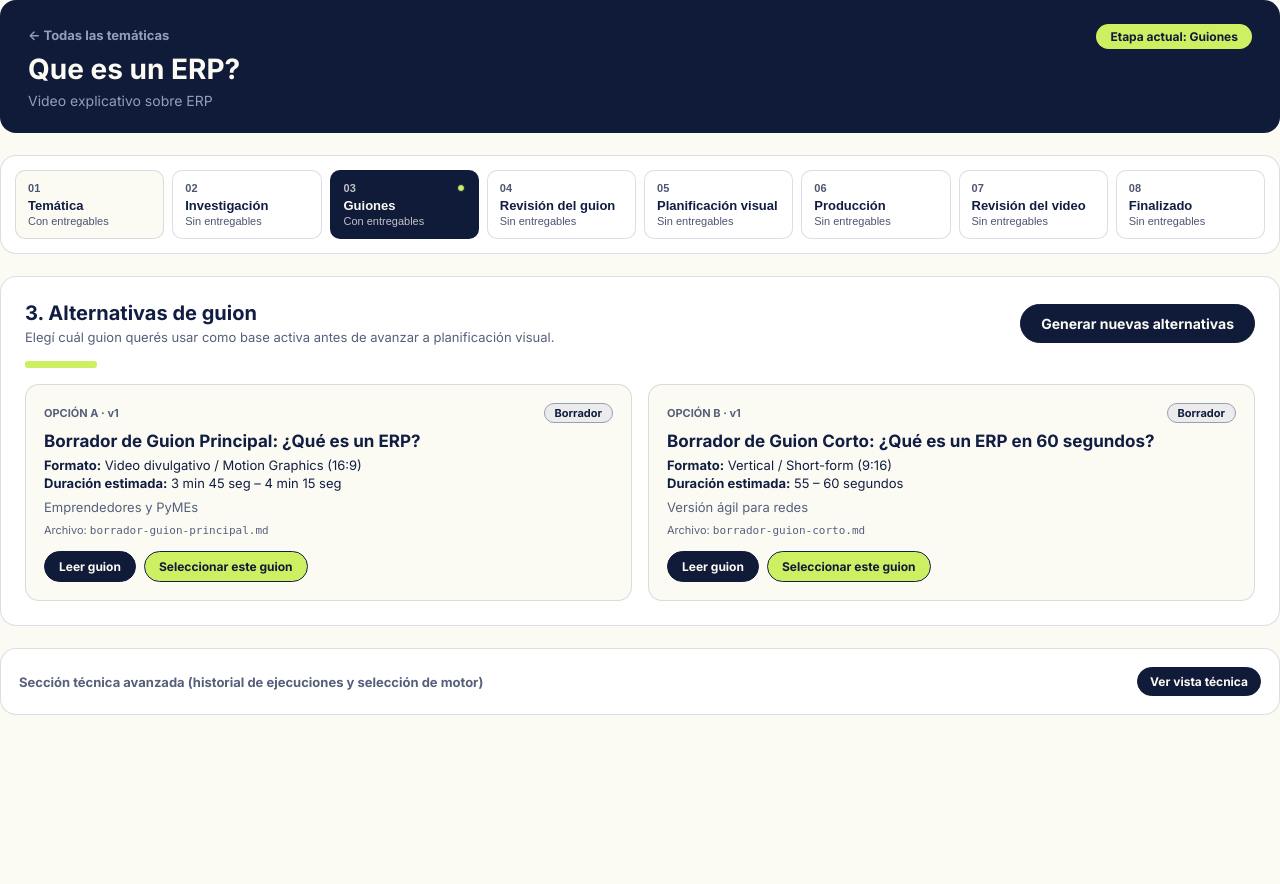
Test: Centralized Spanish labels & editorial flow › renders both que-es-un-erp scripts, allows reading, and hides technical task enums by default
This screenshot has width=1280, height=884.
Expected: the heading "Borrador de Guion Principal: ¿Qué es un ERP?" is shown, [44, 431, 420, 451]
Expected: the heading "Borrador de Guion Corto: ¿Qué es un ERP en 60 segundos?" is shown, [667, 431, 1236, 451]
Click the button "Leer guion" below "borrador-guion-principal.md": (90, 566) [44, 551, 136, 582]
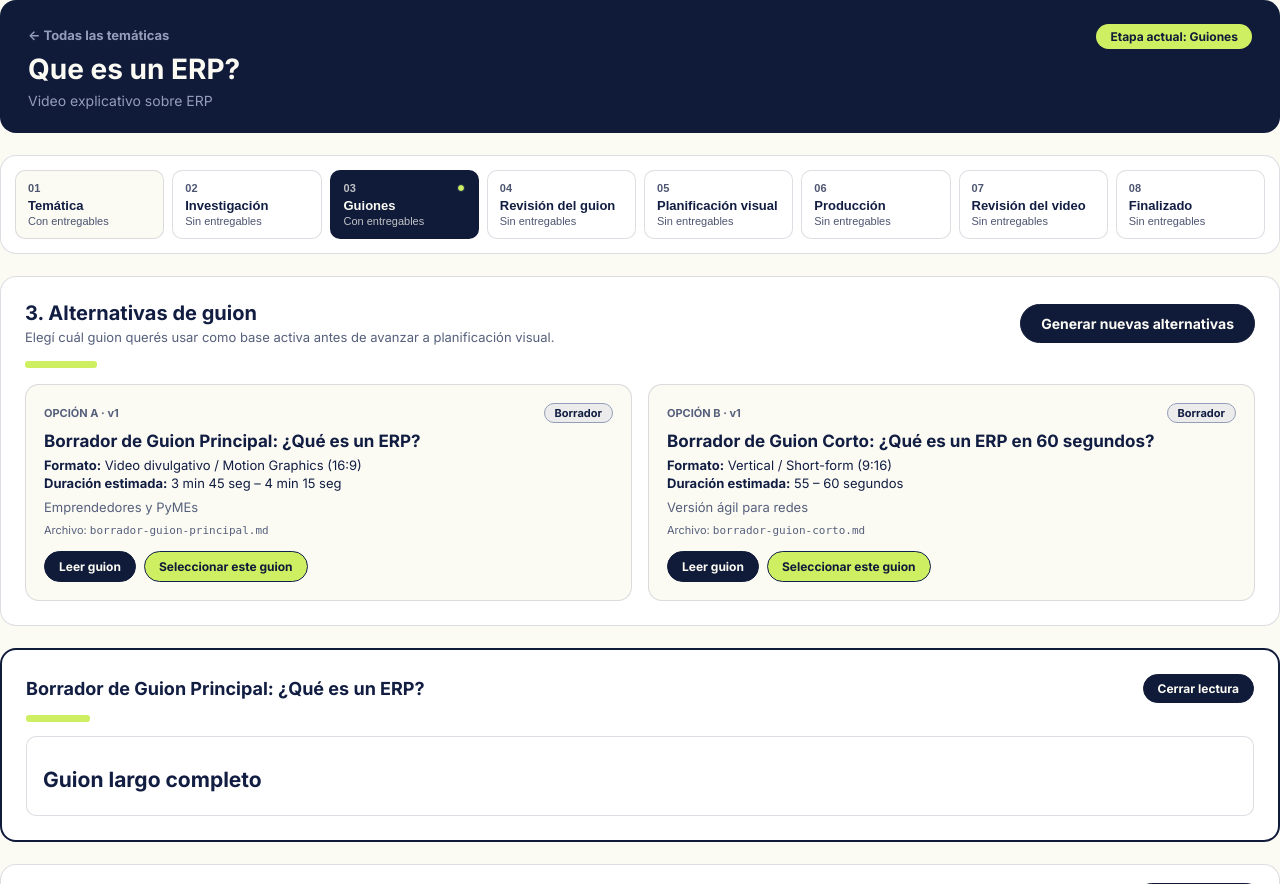
Expected: the text "Guion largo completo" is shown, [43, 767, 262, 792]
